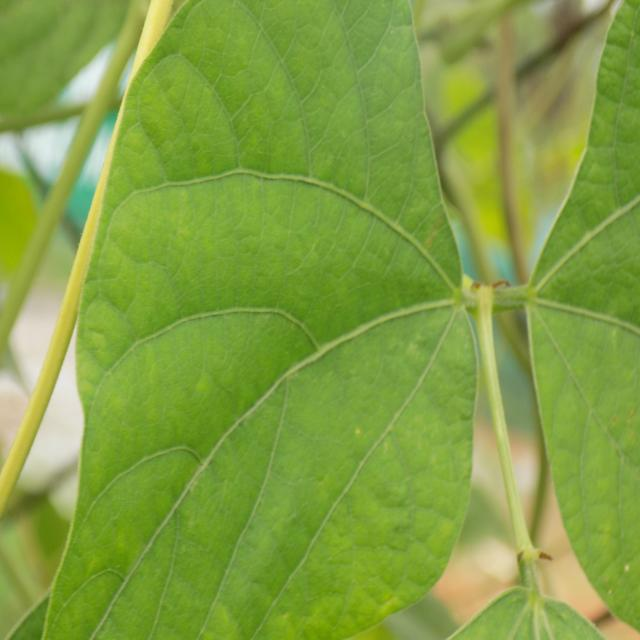Dolicos bean_healthy: (14, 0, 474, 640)
